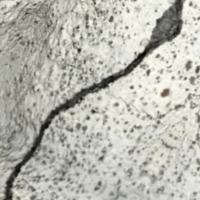crack: (5, 0, 186, 199)
